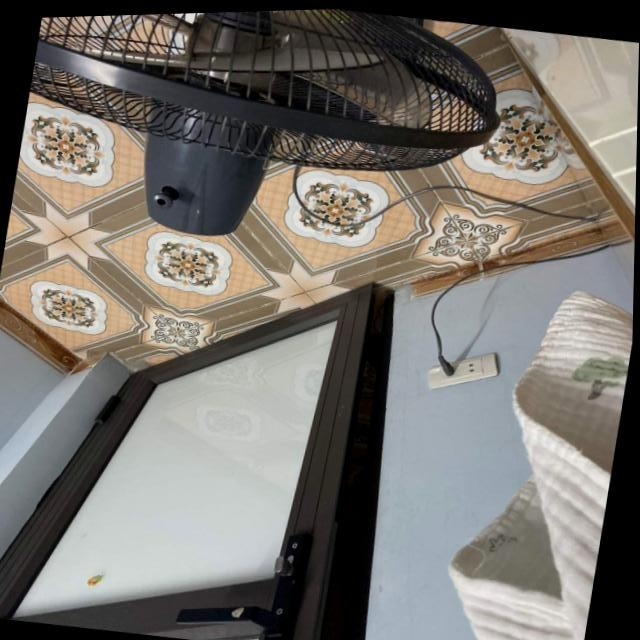outlet: (426, 343, 503, 399)
